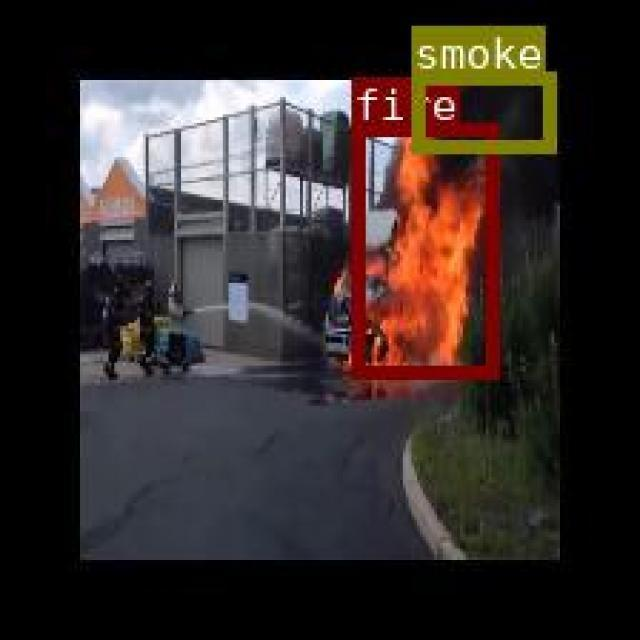fire: (350, 120, 496, 376)
smoke: (411, 71, 554, 150)
